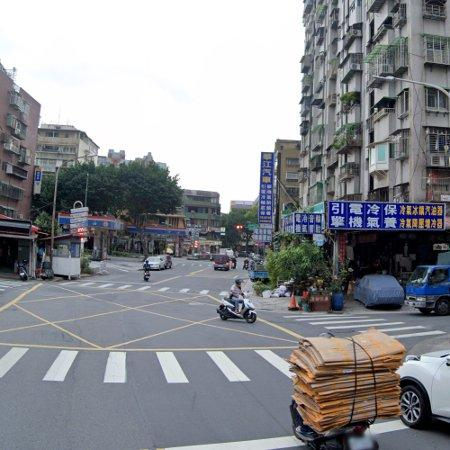crosswalks: (0, 348, 296, 387)
